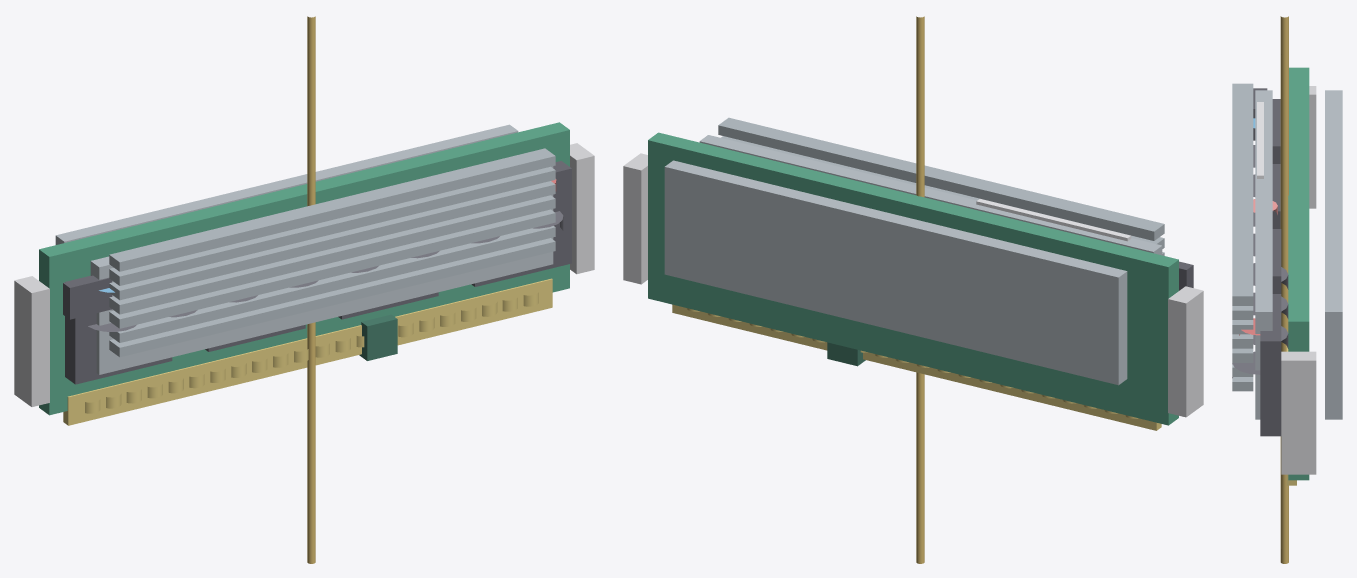
The model's file is memory.glb.
3 renders of one model, left to right at view 1: azimuth 30°, elevation 25°; view 2: azimuth 150°, elevation 25°; view 3: azimuth 270°, elevation 25°, orthographic.
Visible parts, largest first — view 1: heat_spreader_fins, pcb, heat_spreader, gold_contact_edge, side_latch_1, side_latch_2, dram_bank_1, memory_trace_3, dram_bank_4, memory_trace_1, spd_chip, notch (+3 smaller); view 2: heat_spreader, pcb, heat_spreader_fins, side_latch_1, gold_contact_edge, side_latch_2, memory_trace_1, memory_trace_3, memory_bank_label, memory_trace_6, memory_trace_4; view 3: heat_spreader, heat_spreader_fins, pcb, side_latch_2, dram_bank_4, memory_trace_1, memory_trace_4, side_latch_1, memory_trace_6, memory_trace_3, memory_trace_2, dram_bank_3 (+9 smaller).
Boxes of the visible parts, <box> form: heat_spreader_fins: <box>109,148,555,357</box>; pcb: <box>39,122,569,415</box>; heat_spreader: <box>55,124,553,374</box>; gold_contact_edge: <box>63,278,552,425</box>; side_latch_1: <box>14,276,49,406</box>; side_latch_2: <box>570,143,594,274</box>; dram_bank_1: <box>65,275,172,384</box>; memory_trace_3: <box>307,59,315,535</box>; dram_bank_4: <box>471,161,571,286</box>; memory_trace_1: <box>307,88,315,563</box>; spd_chip: <box>63,275,112,319</box>; notch: <box>359,314,397,360</box>; heat_spreader: <box>664,135,1162,385</box>; pcb: <box>648,132,1178,425</box>; heat_spreader_fins: <box>718,117,1164,255</box>; side_latch_1: <box>1168,286,1203,417</box>; gold_contact_edge: <box>672,304,1161,430</box>; side_latch_2: <box>623,153,647,284</box>; memory_trace_1: <box>916,87,924,563</box>; memory_trace_3: <box>916,59,924,535</box>; memory_bank_label: <box>976,199,1131,241</box>; memory_trace_6: <box>916,16,924,491</box>; memory_trace_4: <box>916,45,924,520</box>; heat_spreader: <box>1255,90,1342,419</box>; heat_spreader_fins: <box>1232,83,1253,391</box>; pcb: <box>1288,67,1309,480</box>; side_latch_2: <box>1281,351,1316,474</box>; dram_bank_4: <box>1260,294,1281,436</box>; memory_trace_1: <box>1280,87,1288,563</box>; memory_trace_4: <box>1280,45,1288,520</box>; side_latch_1: <box>1309,86,1316,208</box>; memory_trace_6: <box>1280,16,1288,492</box>; memory_trace_3: <box>1280,59,1288,535</box>; memory_trace_2: <box>1280,73,1288,548</box>; dram_bank_3: <box>1272,229,1281,293</box>.
Size of the model in its own units: 1.46 by 1.35 by 0.2465.
